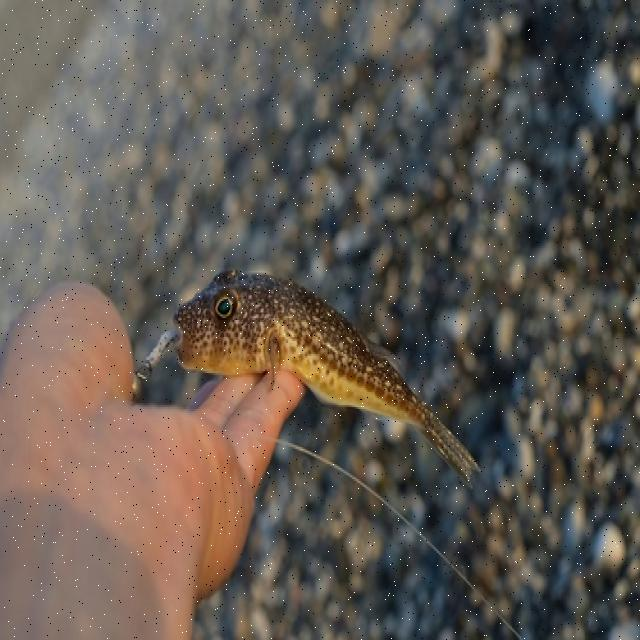Balik: (175, 271, 479, 482)
